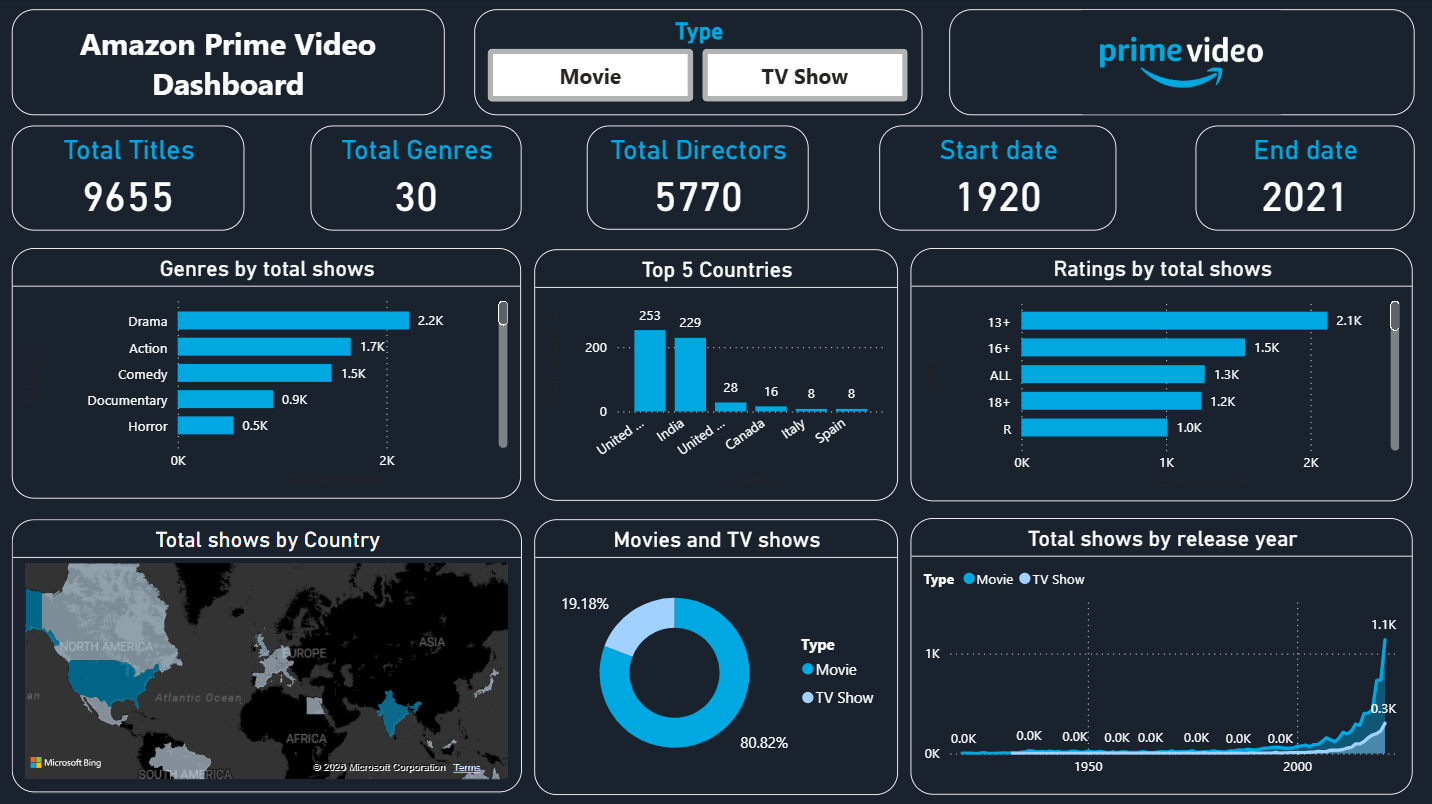

The dashboard page shown, as its layout file describes it:
{"tool":"powerbi","page":{"name":"Page 1","canvas":[1280,720],"ordinal":0},"visuals":[{"type":"donutChart","title":"Movies and TV shows","fields":{"Category":["amazon_prime_titles.type"],"Y":["Count(amazon_prime_titles.show_id)"]},"box":[477.5,463.8,323.8,245.6],"z":0},{"type":"areaChart","title":"Total shows by release year","fields":{"Category":["amazon_prime_titles.release_year"],"Y":["Count(amazon_prime_titles.show_id)"],"Series":["amazon_prime_titles.type"]},"box":[813.1,463.3,447.6,246.1],"z":1000},{"type":"image","box":[846.7,9.6,414.4,94.7],"z":2000},{"type":"barChart","title":"Ratings by total shows","fields":{"Category":["amazon_prime_titles.rating"],"Y":["Count(amazon_prime_titles.show_id)"]},"box":[813.1,223.2,447.6,225.6],"z":3000},{"type":"card","title":"Total Titles","fields":{"Values":["Count(amazon_prime_titles.title)"]},"box":[12.3,113.9,207.2,93.3],"z":4000},{"type":"card","title":"Total Genres","fields":{"Values":["Count(amazon_prime_titles.listed_in.1)"]},"box":[278.6,113.9,188,93.3],"z":5000},{"type":"card","title":"Total Directors","fields":{"Values":["Count(amazon_prime_titles.director)"]},"box":[524.4,114,197.7,93],"z":6000},{"type":"card","title":"Start date","fields":{"Values":["Min(amazon_prime_titles.release_year)"]},"box":[784.9,113.9,211.3,93.3],"z":7000},{"type":"card","title":"End date","fields":{"Values":["Max(amazon_prime_titles.release_year)"]},"box":[1066.2,113.9,194.9,93.3],"z":8000},{"type":"advancedSlicerVisual","title":"Type","fields":{"Values":["amazon_prime_titles.type"]},"box":[424,9.6,399.3,94.7],"z":9000},{"type":"filledMap","title":"Total shows by Country","fields":{"Category":["amazon_prime_titles.country"]},"box":[12.3,463.8,454.2,242.9],"z":10000},{"type":"clusteredColumnChart","title":"Top 5 Countries","fields":{"Category":["amazon_prime_titles.country"],"Y":["CountNonNull(amazon_prime_titles.show_id)"]},"box":[477.5,223.7,323.8,223.7],"z":11000},{"type":"textbox","box":[12.3,9.6,385.6,94.7],"z":12000},{"type":"barChart","title":"Genres by total shows","fields":{"Category":["amazon_prime_titles.listed_in.1"],"Y":["Count(amazon_prime_titles.show_id)"]},"box":[12.1,223.2,453.6,223.2],"z":13000}]}

Visuals, with their boxes in screenshot pixels (x1, y1, x2, y2), scaled from the page's 1280x720 canvas onto the 1432x804 screenshot:
"Movies and TV shows" donutChart: x1=534, y1=518, x2=896, y2=792
"Total shows by release year" areaChart: x1=910, y1=517, x2=1410, y2=792
image: x1=947, y1=11, x2=1411, y2=116
"Ratings by total shows" barChart: x1=910, y1=249, x2=1410, y2=501
"Total Titles" card: x1=14, y1=127, x2=246, y2=231
"Total Genres" card: x1=312, y1=127, x2=522, y2=231
"Total Directors" card: x1=587, y1=127, x2=808, y2=231
"Start date" card: x1=878, y1=127, x2=1114, y2=231
"End date" card: x1=1193, y1=127, x2=1411, y2=231
"Type" advancedSlicerVisual: x1=474, y1=11, x2=921, y2=116
"Total shows by Country" filledMap: x1=14, y1=518, x2=522, y2=789
"Top 5 Countries" clusteredColumnChart: x1=534, y1=250, x2=896, y2=500
textbox: x1=14, y1=11, x2=445, y2=116
"Genres by total shows" barChart: x1=14, y1=249, x2=521, y2=498
